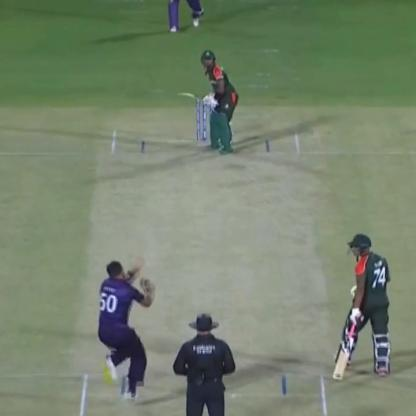bat: (326, 311, 362, 385), (172, 87, 220, 110)
pitch: (78, 119, 334, 416)
